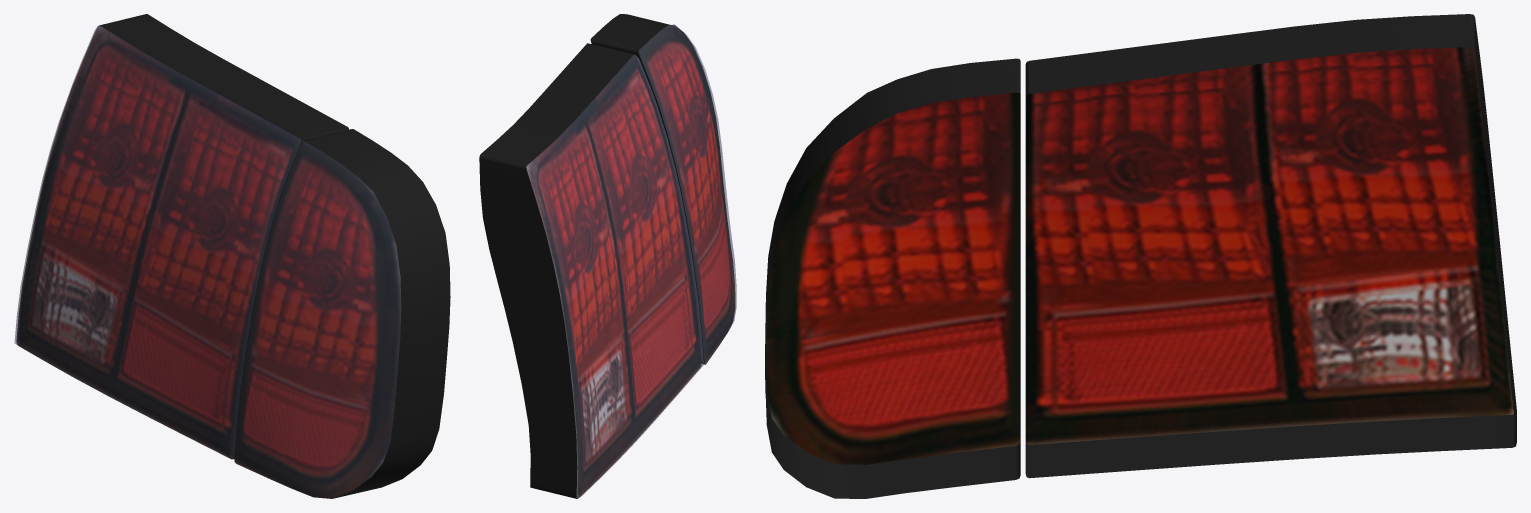
3 views of the same model, side by side, from view 1: azimuth 30°, elevation 25°; view 2: azimuth 150°, elevation 25°; view 3: azimuth 270°, elevation 25° (orthographic). The views are drawn at different scales.
Visible parts, largest first — view 1: P222_15_541C_R_P222_15_541C_R_3_N, P222_15_541C_R_1_DTaSI_P222_15_541C_R, P222_15_541C_R_P222_15_541C_R_4_DTaSI, P222_15_541C_R_P222_15_541C_R_2_N; view 2: P222_15_541C_R_P222_15_541C_R_3_N, P222_15_541C_R_1_DTaSI_P222_15_541C_R, P222_15_541C_R_P222_15_541C_R_2_N, P222_15_541C_R_P222_15_541C_R_4_DTaSI; view 3: P222_15_541C_R_P222_15_541C_R_3_N, P222_15_541C_R_P222_15_541C_R_2_N.
Part boxes in pixels (bbox=[...]): P222_15_541C_R_P222_15_541C_R_3_N: bbox=[16, 25, 401, 498]; P222_15_541C_R_1_DTaSI_P222_15_541C_R: bbox=[14, 26, 301, 459]; P222_15_541C_R_P222_15_541C_R_4_DTaSI: bbox=[234, 141, 400, 498]; P222_15_541C_R_P222_15_541C_R_2_N: bbox=[99, 14, 450, 498]; P222_15_541C_R_P222_15_541C_R_3_N: bbox=[526, 24, 735, 498]; P222_15_541C_R_1_DTaSI_P222_15_541C_R: bbox=[526, 55, 703, 498]; P222_15_541C_R_P222_15_541C_R_2_N: bbox=[479, 14, 704, 498]; P222_15_541C_R_P222_15_541C_R_4_DTaSI: bbox=[639, 25, 736, 364]; P222_15_541C_R_P222_15_541C_R_3_N: bbox=[765, 47, 1513, 464]; P222_15_541C_R_P222_15_541C_R_2_N: bbox=[765, 14, 1516, 498].
Size of the model in its own units: 15.23 by 25.16 by 38.08.
